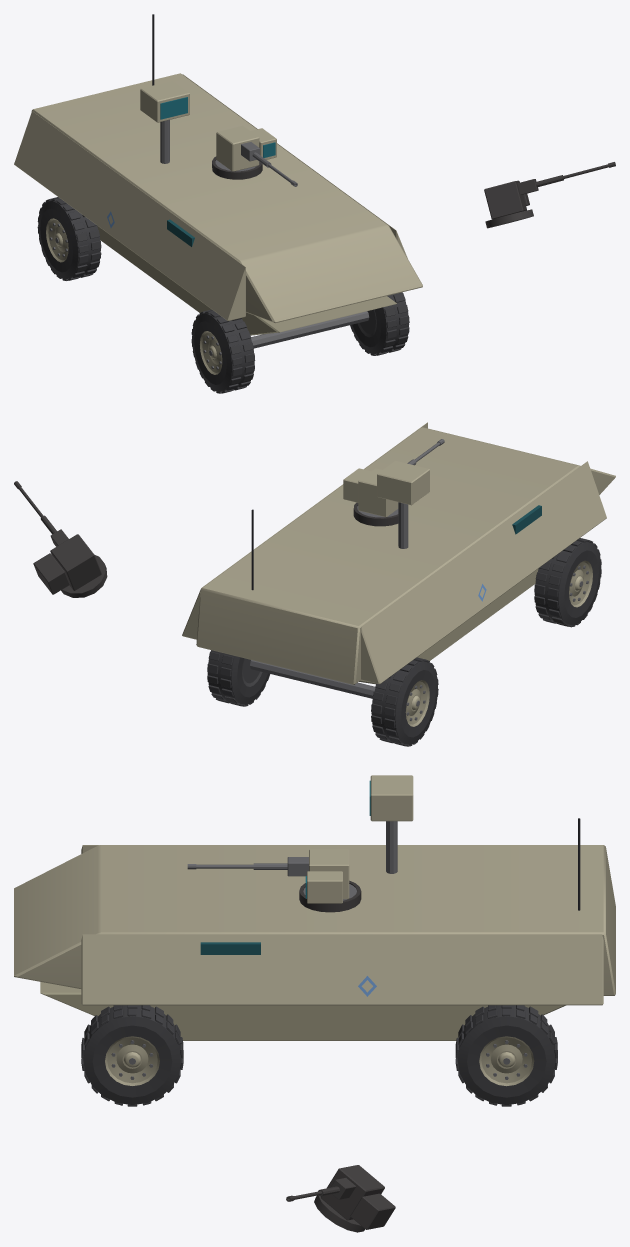
Rendered from reconVehicle__fennek.glb.
The picture shows the model from 3 angles, top to bottom: view 1: azimuth 30°, elevation 25°; view 2: azimuth 150°, elevation 25°; view 3: azimuth 270°, elevation 25°; orthographic projection. The views are drawn at different scales.
Parts seen in each view (by area): view 1: Hull_Mesh, Wheel_L1_Mesh, Wheel_L0_Mesh, Wreck, Wheel_R1_Mesh, Turret_Mesh, Gun_Mesh; view 2: Hull_Mesh, Wheel_L0_Mesh, Wheel_L1_Mesh, Wreck, Wheel_R0_Mesh, Turret_Mesh; view 3: Hull_Mesh, Wheel_R0_Mesh, Wheel_R1_Mesh, Wreck, Turret_Mesh, Gun_Mesh.
Boxes of the visible parts, left/top/right/bottom form: Hull_Mesh: left=14, top=14, right=422, bottom=348; Wheel_L1_Mesh: left=191, top=309, right=255, bottom=393; Wheel_L0_Mesh: left=37, top=197, right=101, bottom=280; Wreck: left=212, top=156, right=615, bottom=392; Wheel_R1_Mesh: left=350, top=292, right=409, bottom=355; Turret_Mesh: left=215, top=125, right=276, bottom=171; Gun_Mesh: left=241, top=142, right=297, bottom=186; Hull_Mesh: left=182, top=422, right=615, bottom=698; Wheel_L0_Mesh: left=371, top=657, right=438, bottom=746; Wheel_L1_Mesh: left=534, top=538, right=601, bottom=627; Wreck: left=14, top=481, right=592, bottom=706; Wheel_R0_Mesh: left=207, top=650, right=270, bottom=706; Turret_Mesh: left=343, top=468, right=398, bottom=517; Hull_Mesh: left=14, top=775, right=615, bottom=1040; Wheel_R0_Mesh: left=455, top=1005, right=557, bottom=1106; Wheel_R1_Mesh: left=81, top=1005, right=183, bottom=1106; Wreck: left=158, top=880, right=547, bottom=1232; Turret_Mesh: left=303, top=849, right=356, bottom=903; Gun_Mesh: left=187, top=857, right=308, bottom=876.
Size of what is drawn, in the model's own units: 6.26 by 2.67 by 5.66.
